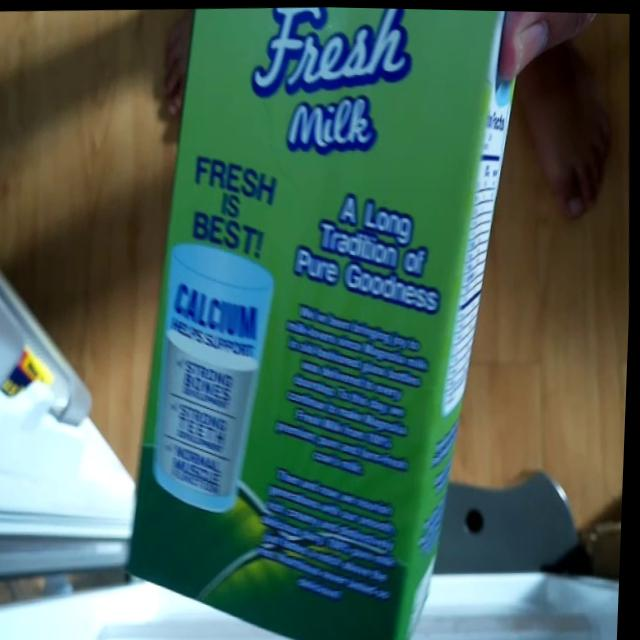milk: (108, 2, 556, 640)
